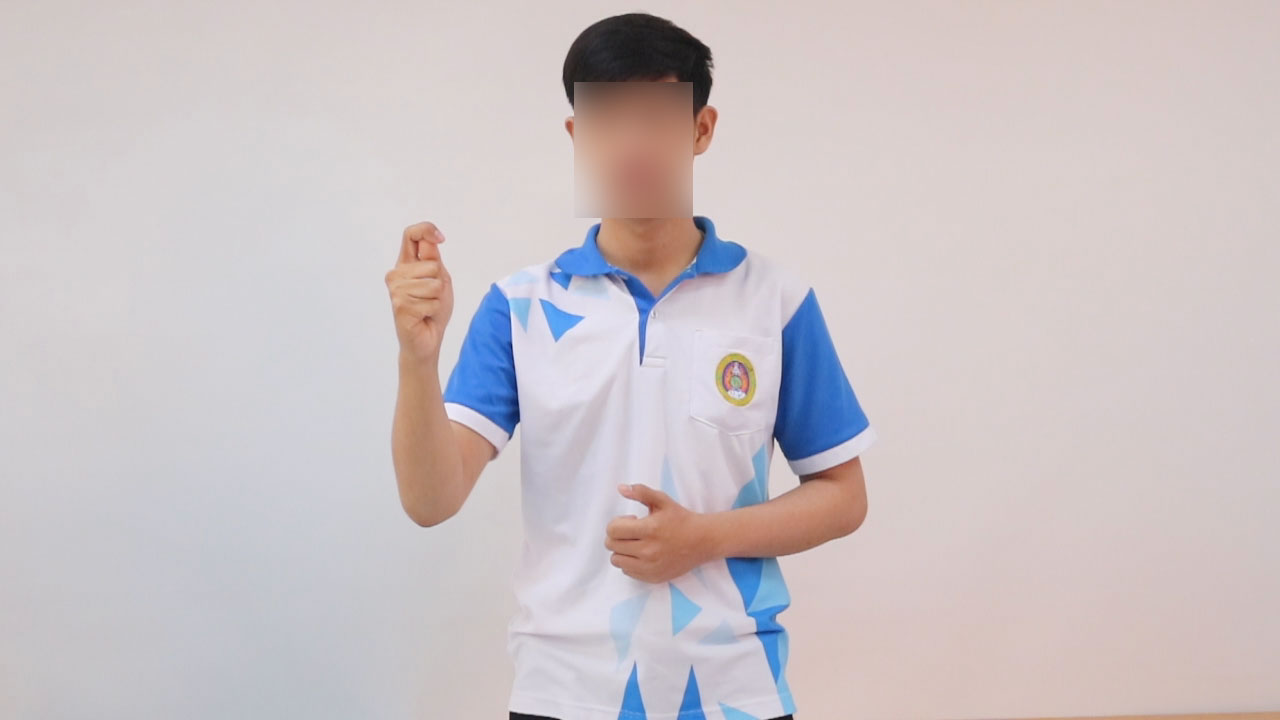or: (382, 210, 462, 369)
